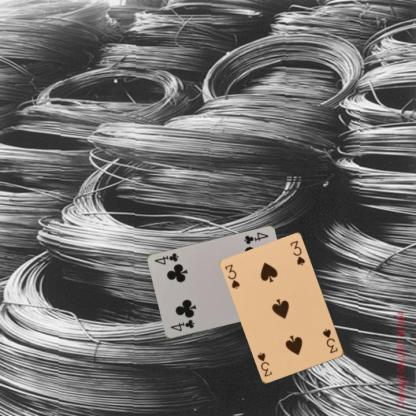3s: (320, 326, 339, 355), (223, 262, 242, 290)
4c: (167, 317, 196, 333), (241, 230, 269, 246)
